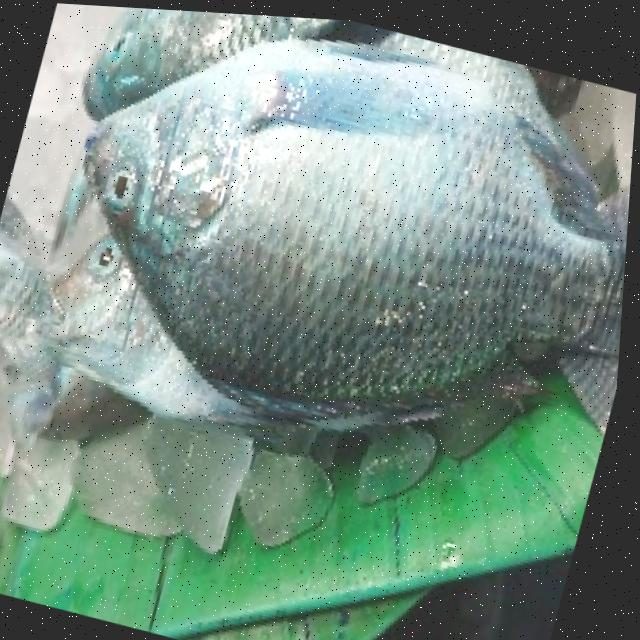Fresh: (16, 2, 640, 485)
